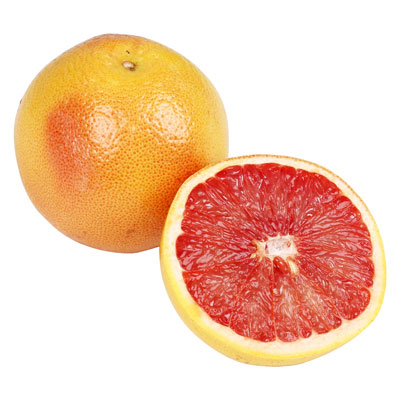grapefruit: (14, 35, 231, 250), (167, 159, 379, 357)
